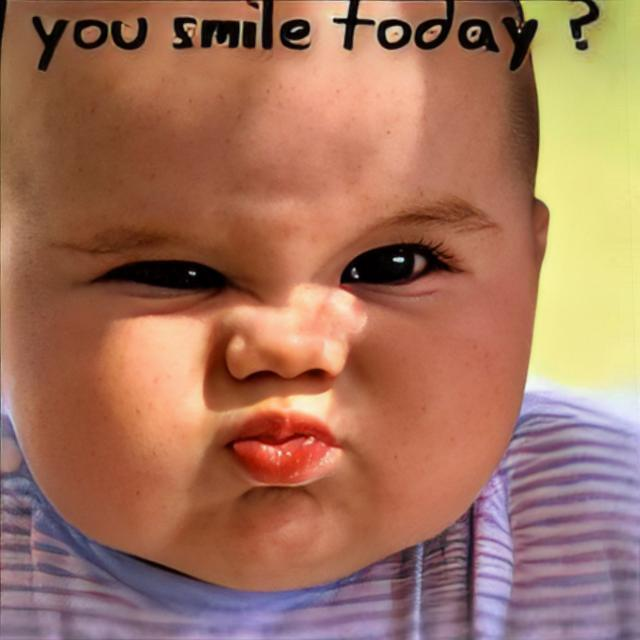anger: (45, 46, 509, 570)
